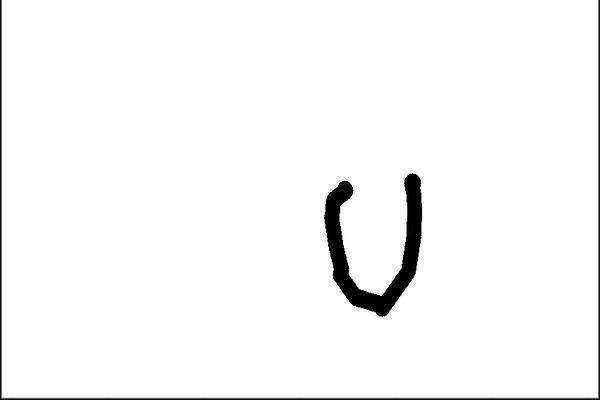U: (312, 166, 426, 320)
